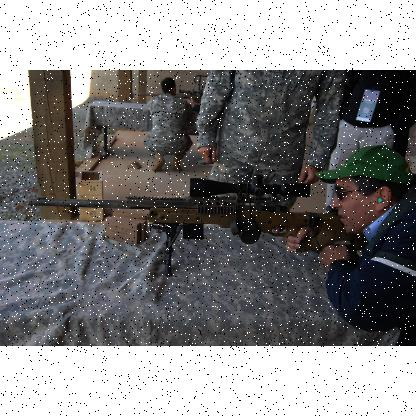gun: (27, 170, 367, 276), (137, 87, 201, 99)
